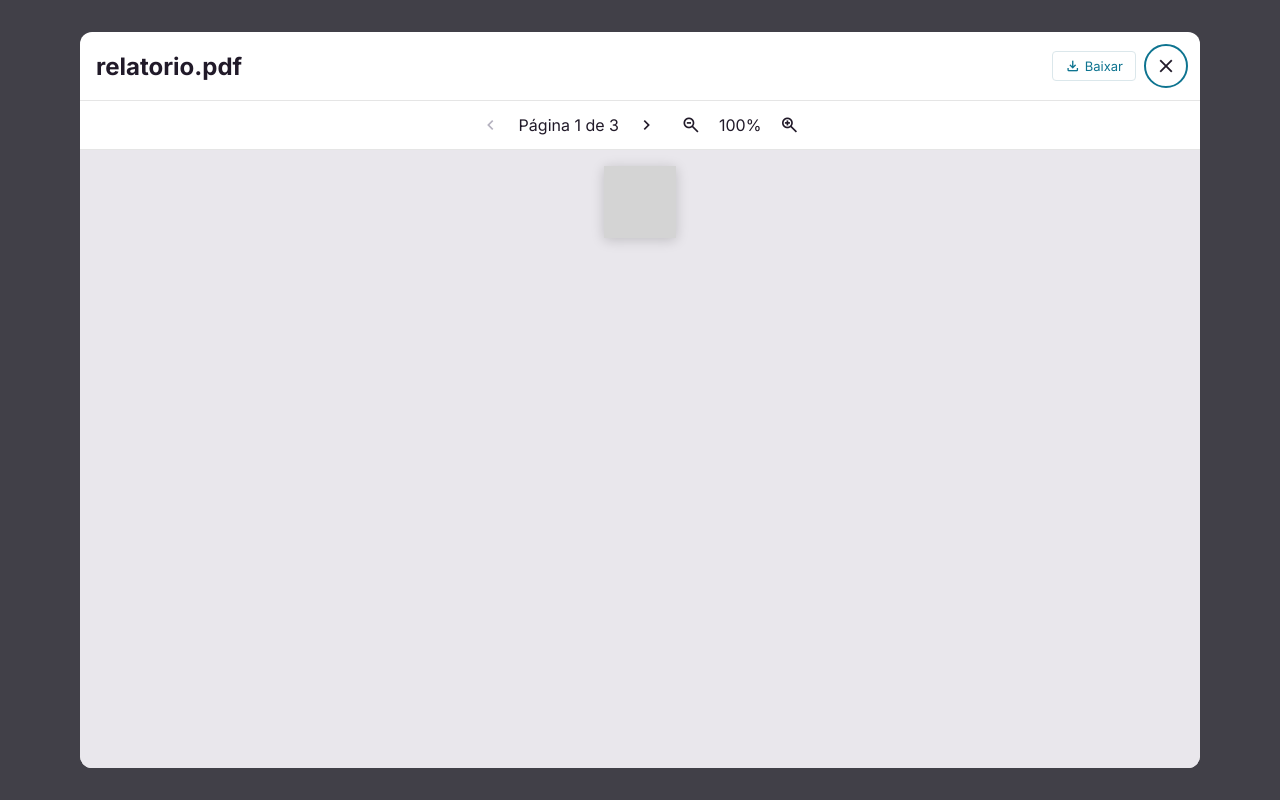
download › shows Baixando… while the download is in flight and disables the button
This screenshot has width=1280, height=800.
Click the button with aria-label "Baixar relatorio.pdf": [1094, 66] box [1052,51,1136,81]
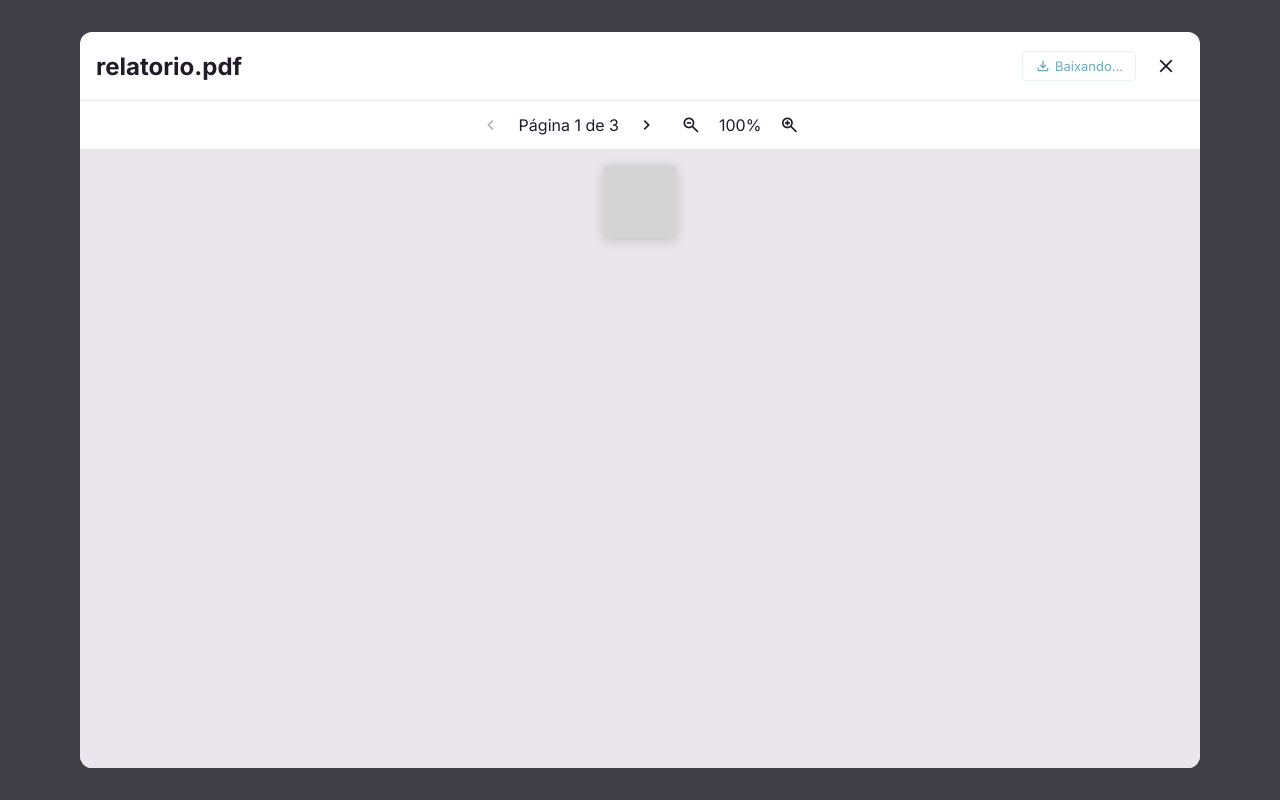
Check: the button with aria-label "Baixar relatorio.pdf" is disabled, box [1022,51,1136,81]
